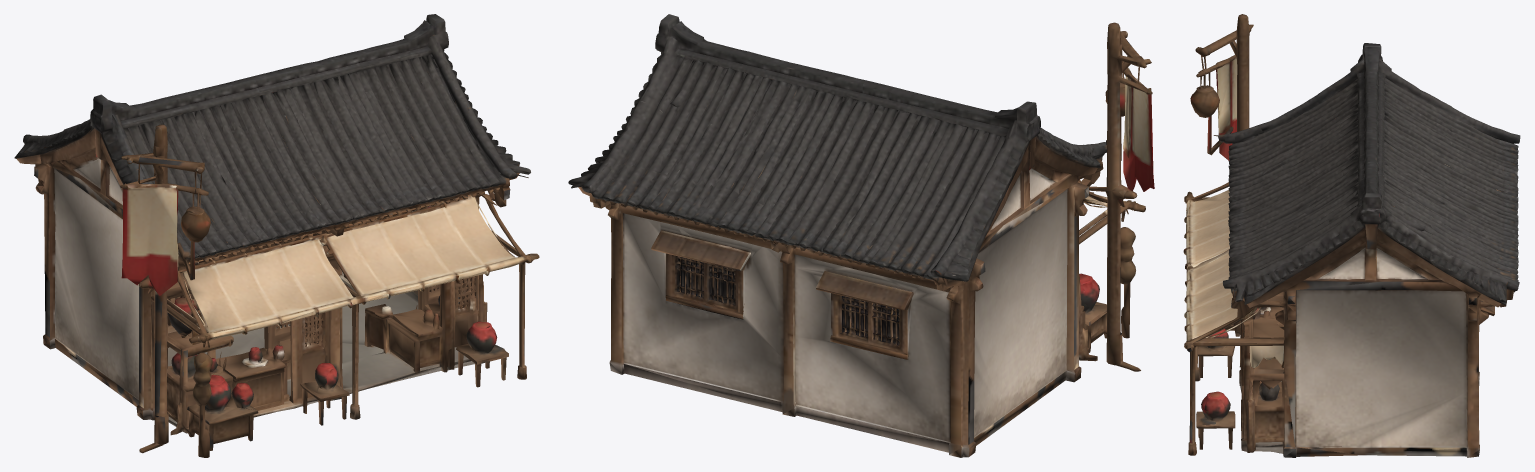
File: 06_Wine_Shop_LOD1.fbx
3 renders of one model, left to right at view 1: azimuth 30°, elevation 25°; view 2: azimuth 150°, elevation 25°; view 3: azimuth 270°, elevation 25°, orthographic. The views are drawn at different scales.
Parts seen in each view (by area): view 1: 06_Wine_Shop_L1; view 2: 06_Wine_Shop_L1; view 3: 06_Wine_Shop_L1.
Part boxes in pixels (x1,y1,x2,y2): 06_Wine_Shop_L1: (14,14,539,457); 06_Wine_Shop_L1: (568,14,1154,457); 06_Wine_Shop_L1: (1183,14,1520,457).
Bounding box in the file's own units: 7.67 × 5.8 × 6.01.
